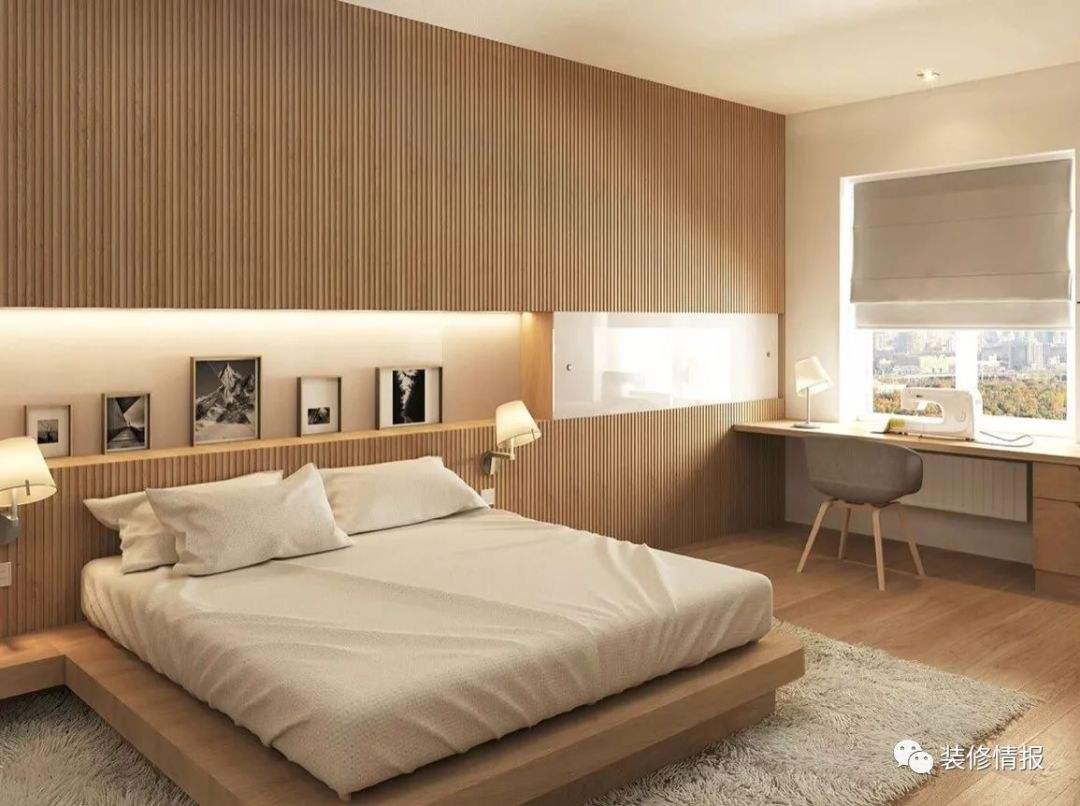床: (58, 508, 775, 785)
枕头: (90, 457, 489, 578)
灯: (0, 440, 56, 553), (478, 391, 533, 505), (788, 360, 831, 422), (909, 66, 942, 85)
